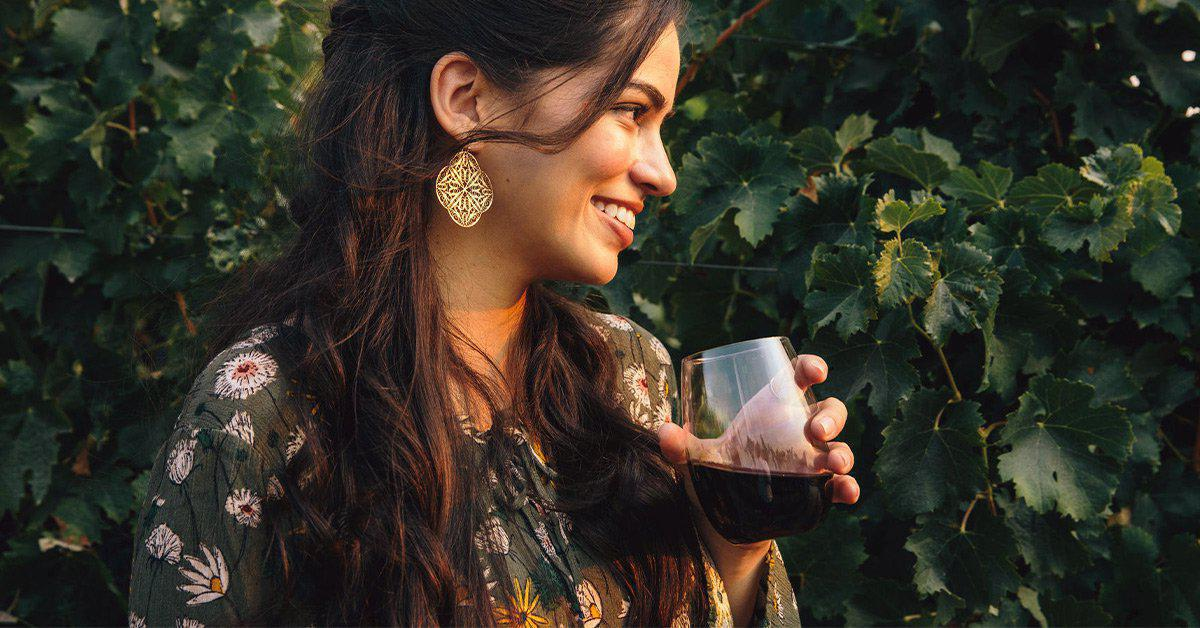Drunk: (541, 5, 676, 284)
